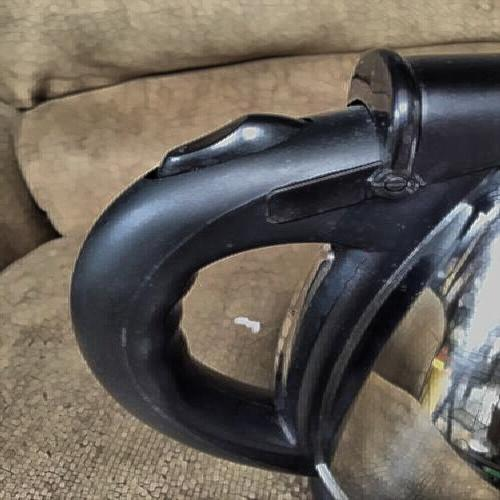kettle: (120, 109, 500, 473)
